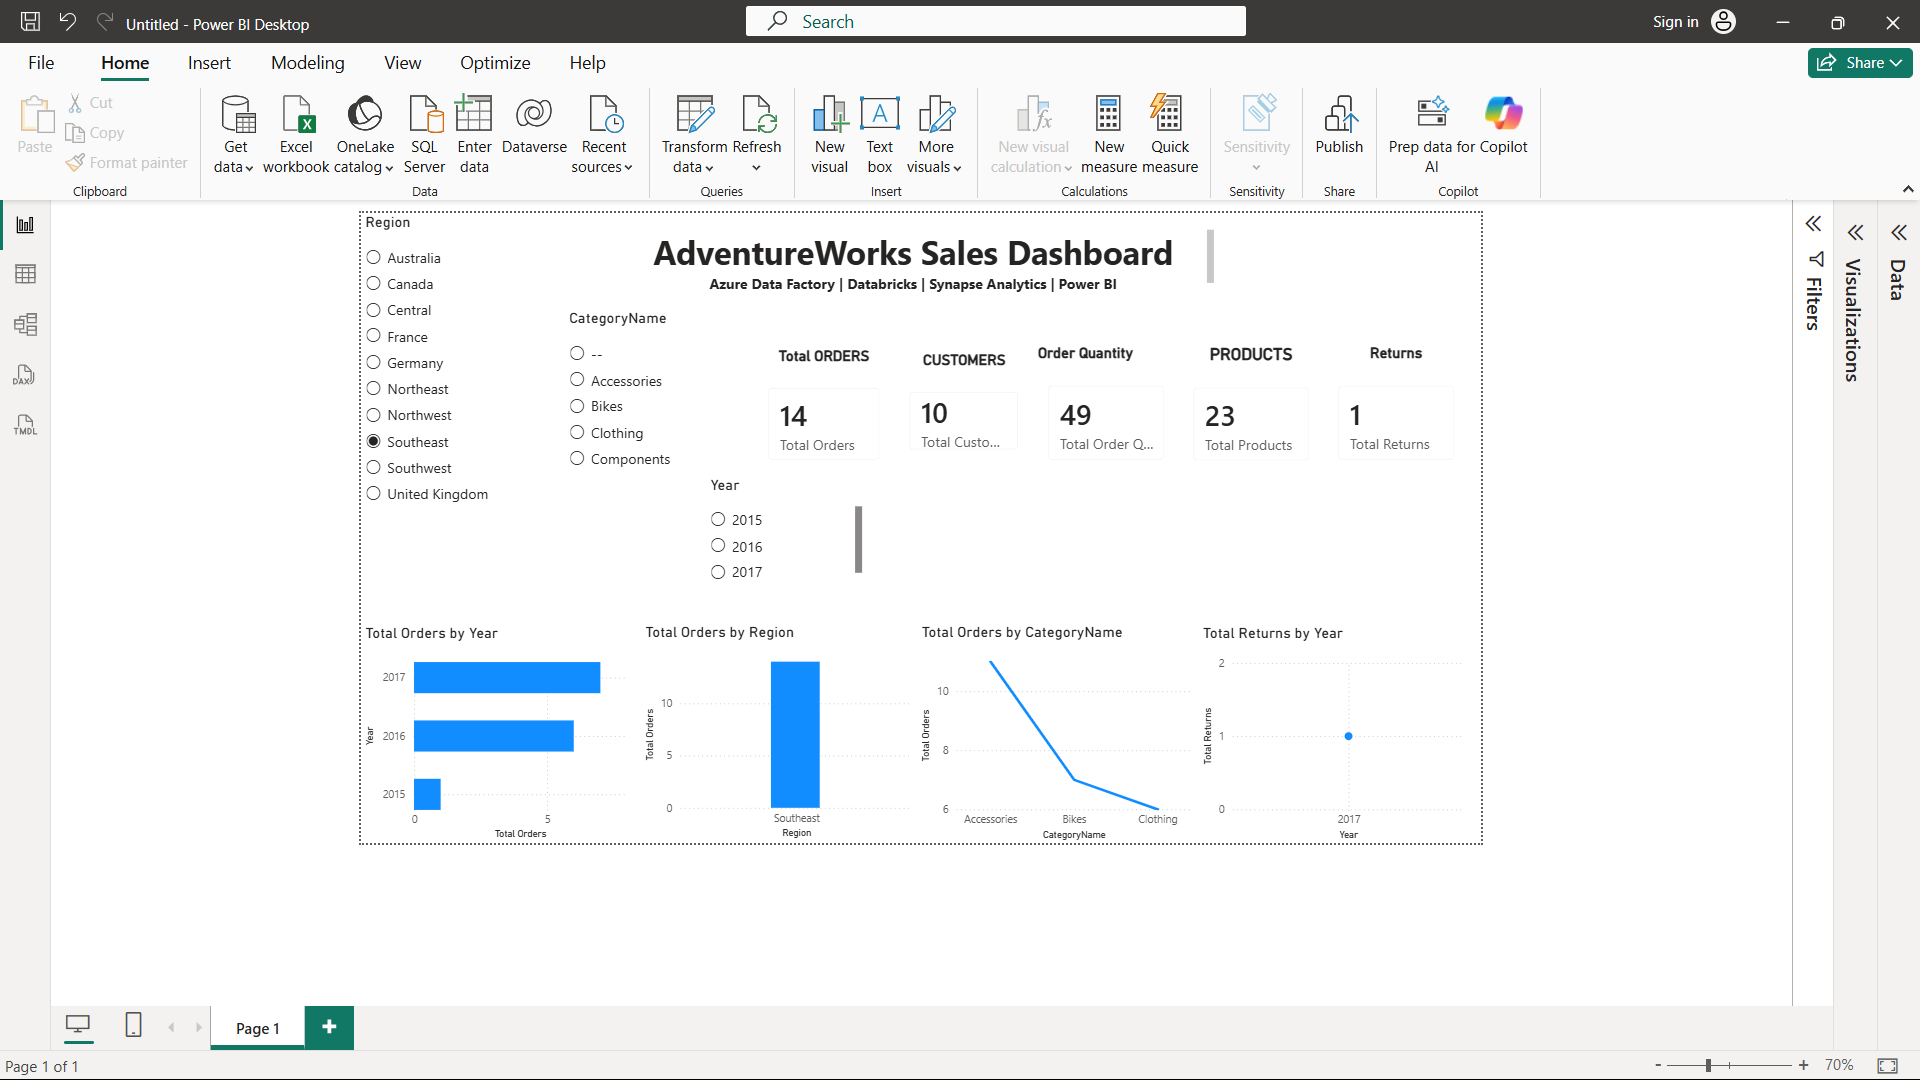

What the dashboard file says about the page in this screenshot:
{"tool":"powerbi","page":{"name":"Page 1","canvas":[1280,720],"ordinal":0},"visuals":[{"type":"cardVisual","title":"Total ORDERS","fields":{"Data":["gold extsales.Total Orders"]},"box":[428.9,153.3,161.1,146.7],"z":0},{"type":"cardVisual","title":"CUSTOMERS","fields":{"Data":["gold extsales.Total Customers"]},"box":[590,153.3,158.9,146.7],"z":1},{"type":"cardVisual","title":" Order Quantity","fields":{"Data":["gold extsales.Total Order Quantity"]},"box":[768.9,150,166,150],"z":2},{"type":"cardVisual","title":"PRODUCTS","fields":{"Data":["gold extsales.Total Products"]},"box":[934.4,150,166,150],"z":3},{"type":"cardVisual","title":"Returns ","fields":{"Data":["gold extsales.Total Returns"]},"box":[1100,150,166,150],"z":4},{"type":"clusteredBarChart","fields":{"Category":["gold extcalendar.Year"],"Y":["gold extsales.Total Orders"]},"box":[0,470,313.2,251],"z":5},{"type":"clusteredColumnChart","fields":{"Category":["gold extterritory.Region"],"Y":["gold extsales.Total Orders"]},"box":[320,468.6,315.5,251],"z":6},{"type":"lineChart","fields":{"Category":["gold extproduct_categories.CategoryName"],"Y":["gold extsales.Total Orders"]},"box":[635.7,468.6,318.6,252.9],"z":7},{"type":"lineChart","fields":{"Category":["gold extcalendar.Year"],"Y":["gold extsales.Total Returns"]},"box":[957.1,470,308.6,251.4],"z":8},{"type":"textbox","box":[345.6,14.4,690,83.3],"z":10},{"type":"listSlicer","fields":{"Values":["gold extcalendar.Year"]},"box":[172.2,212.2,141.1,128.9],"z":11},{"type":"listSlicer","fields":{"Values":["gold extterritory.Region"]},"box":[0,0,156.7,341.1],"z":12},{"type":"listSlicer","fields":{"Values":["gold extproduct_categories.CategoryName"]},"box":[172.2,3.3,141.1,190],"z":13}]}

Visuals, with their boxes on the page's 1280x720 design canvas (x1, y1, x2, y2). These are canvas units, not pixel positions in the 1920x1080 screenshot, which may show the page scaled, cropped or inside an application window:
"Total ORDERS" cardVisual: detection(429, 153, 590, 300)
"CUSTOMERS" cardVisual: detection(590, 153, 749, 300)
" Order Quantity" cardVisual: detection(769, 150, 935, 300)
"PRODUCTS" cardVisual: detection(934, 150, 1100, 300)
"Returns " cardVisual: detection(1100, 150, 1266, 300)
clusteredBarChart - gold extcalendar.Year x gold extsales.Total Orders: detection(0, 470, 313, 721)
clusteredColumnChart - gold extterritory.Region x gold extsales.Total Orders: detection(320, 469, 636, 720)
lineChart - gold extproduct_categories.CategoryName x gold extsales.Total Orders: detection(636, 469, 954, 722)
lineChart - gold extcalendar.Year x gold extsales.Total Returns: detection(957, 470, 1266, 721)
textbox: detection(346, 14, 1036, 98)
listSlicer - gold extcalendar.Year: detection(172, 212, 313, 341)
listSlicer - gold extterritory.Region: detection(0, 0, 157, 341)
listSlicer - gold extproduct_categories.CategoryName: detection(172, 3, 313, 193)
